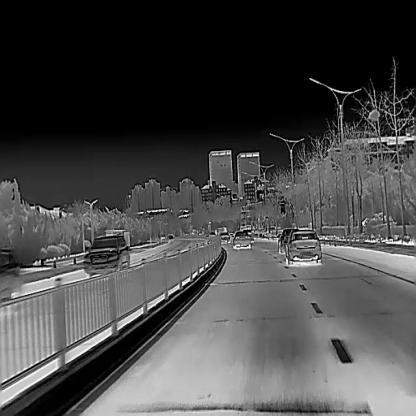car: (82, 234, 131, 277), (0, 245, 23, 311), (283, 228, 322, 264), (276, 227, 300, 252), (232, 230, 252, 250), (218, 231, 230, 244)
